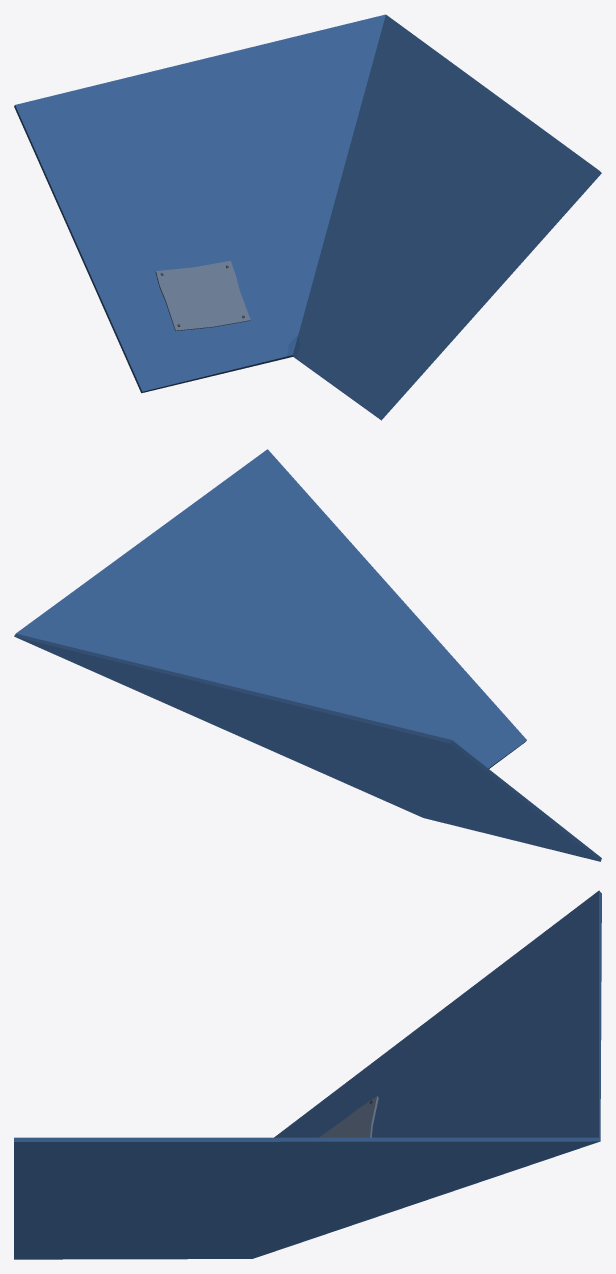
File: Roof_06.fbx
The picture shows the model from 3 angles, top to bottom: view 1: azimuth 30°, elevation 25°; view 2: azimuth 150°, elevation 25°; view 3: azimuth 270°, elevation 25°; orthographic projection. The views are drawn at different scales.
Visible parts, largest first — view 1: Roof_06_LOD0; view 2: Roof_06_LOD0; view 3: Roof_06_LOD0.
Boxes of the visible parts, x1,y1,x2,y2 form: Roof_06_LOD0: (14,14,601,420); Roof_06_LOD0: (14,449,601,861); Roof_06_LOD0: (14,890,601,1259).
Size of what is drawn, in the model's own units: 1005 by 505 by 1005.
